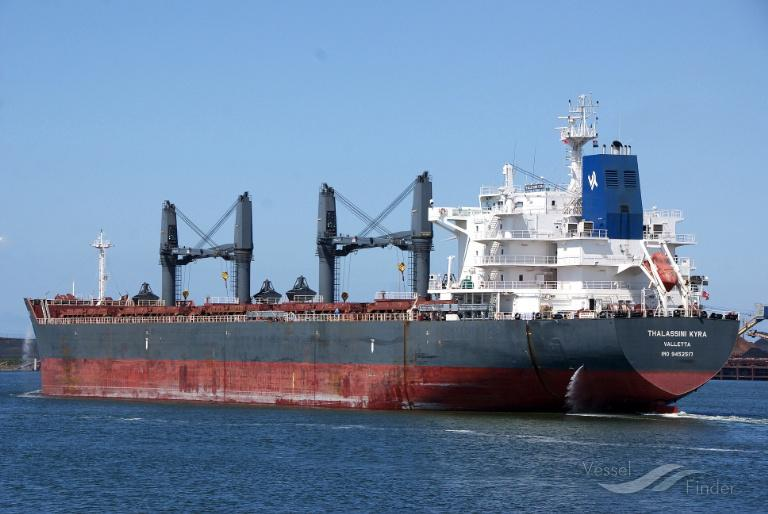OCR: (643, 326, 712, 368)
